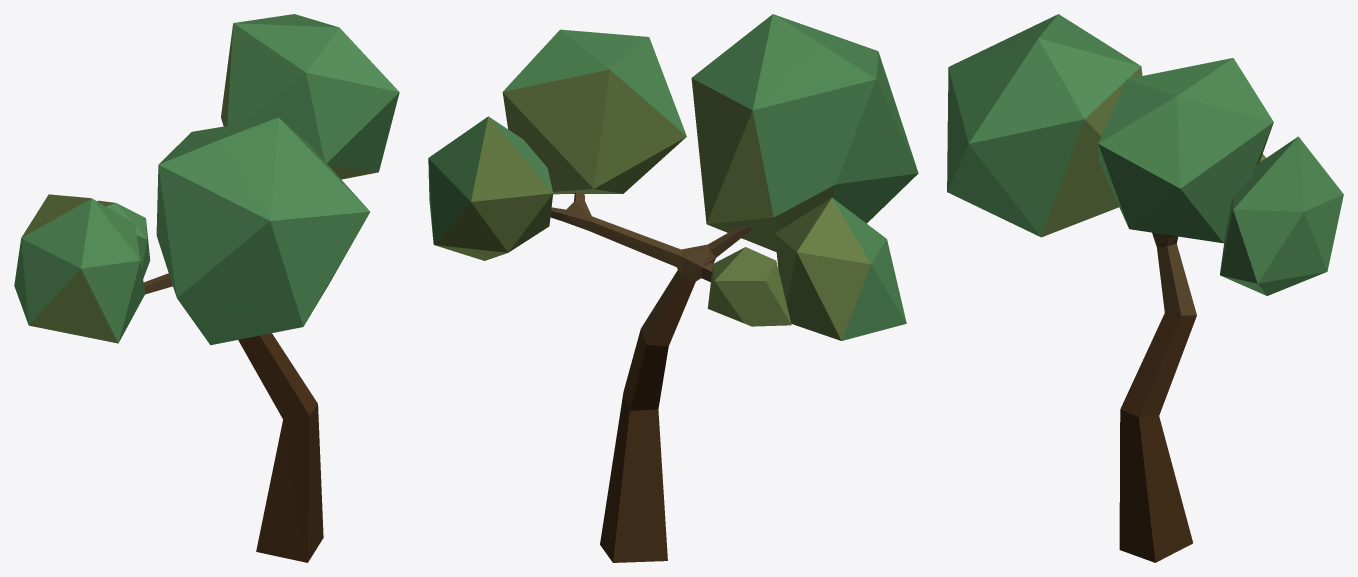
The model's file is tree_2.glb.
The picture shows the model from 3 angles, left to right: view 1: azimuth 30°, elevation 25°; view 2: azimuth 150°, elevation 25°; view 3: azimuth 270°, elevation 25°; orthographic projection. The views are drawn at different scales.
Visible parts, largest first — view 1: Tree1.002_Material.005_0; view 2: Tree1.002_Material.005_0; view 3: Tree1.002_Material.005_0.
Boxes of the visible parts, x1,y1,x2,y2 form: Tree1.002_Material.005_0: [14, 14, 399, 562]; Tree1.002_Material.005_0: [428, 14, 918, 562]; Tree1.002_Material.005_0: [947, 14, 1343, 562].
Bounding box in the file's own units: 2.14 × 2.53 × 1.88.
